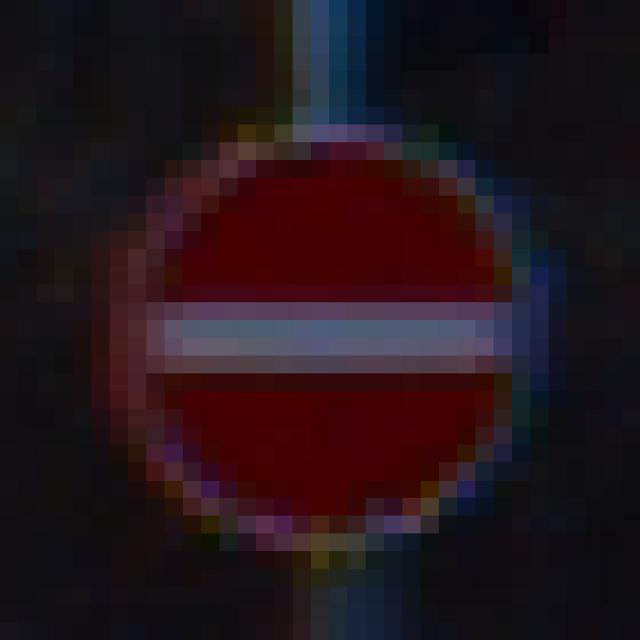No Entry: (93, 108, 550, 552)
